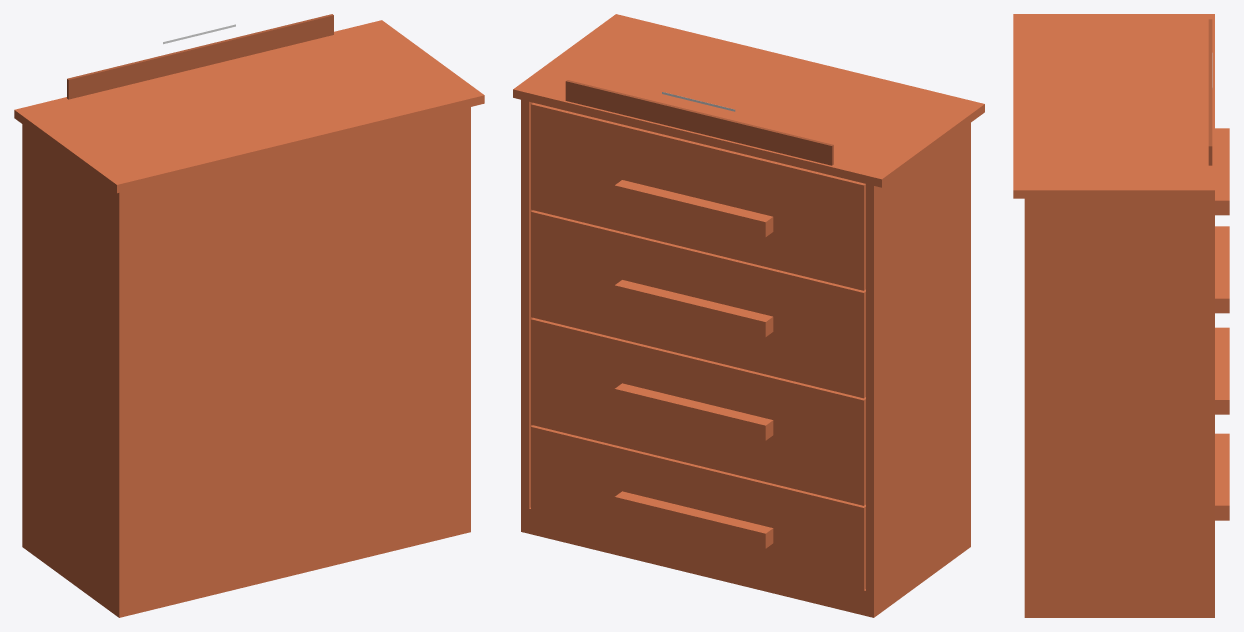
File: iachago drawers .fbx
3 views of the same model, side by side, from view 1: azimuth 30°, elevation 25°; view 2: azimuth 150°, elevation 25°; view 3: azimuth 270°, elevation 25° (orthographic). The views are drawn at different scales.
Visible parts, largest first — view 1: Frame_Back, Frame_Side_L, Frame_Top, Drawer_Box_3, Frame_Side_R; view 2: Frame_Side_L, Frame_Top, Drawer_Front_2, Drawer_Front_1, Drawer_Front_3, Drawer_Front_0, Drawer_Box_3, Frame_Side_R, Cube.001, Cube.003, Cube, Cube.002 (+1 smaller); view 3: Frame_Side_R, Frame_Top, Cube, Cube.001, Cube.002, Cube.003, Drawer_Box_3.
Part boxes in pixels (x1,y1,x2,y2): Frame_Back: [127, 109, 462, 615]; Frame_Side_L: [22, 124, 127, 617]; Frame_Top: [14, 20, 484, 193]; Drawer_Box_3: [67, 14, 333, 99]; Frame_Side_R: [463, 107, 470, 533]; Frame_Side_L: [866, 123, 970, 617]; Frame_Top: [513, 14, 984, 187]; Drawer_Front_2: [531, 210, 865, 398]; Drawer_Front_1: [531, 317, 865, 505]; Drawer_Front_3: [531, 102, 865, 290]; Drawer_Front_0: [531, 425, 865, 613]; Drawer_Box_3: [565, 80, 833, 165]; Frame_Side_R: [521, 100, 532, 533]; Cube.001: [614, 280, 773, 337]; Cube.003: [614, 491, 773, 548]; Cube: [614, 180, 773, 237]; Cube.002: [614, 383, 773, 440]; Frame_Side_R: [1024, 198, 1214, 617]; Frame_Top: [1013, 14, 1214, 198]; Cube: [1215, 128, 1229, 215]; Cube.001: [1215, 226, 1229, 313]; Cube.002: [1215, 327, 1229, 414]; Cube.003: [1215, 433, 1229, 520]; Drawer_Box_3: [1208, 19, 1212, 165].
Bounding box in the file's own units: 0.92 × 1.13 × 0.4777.
